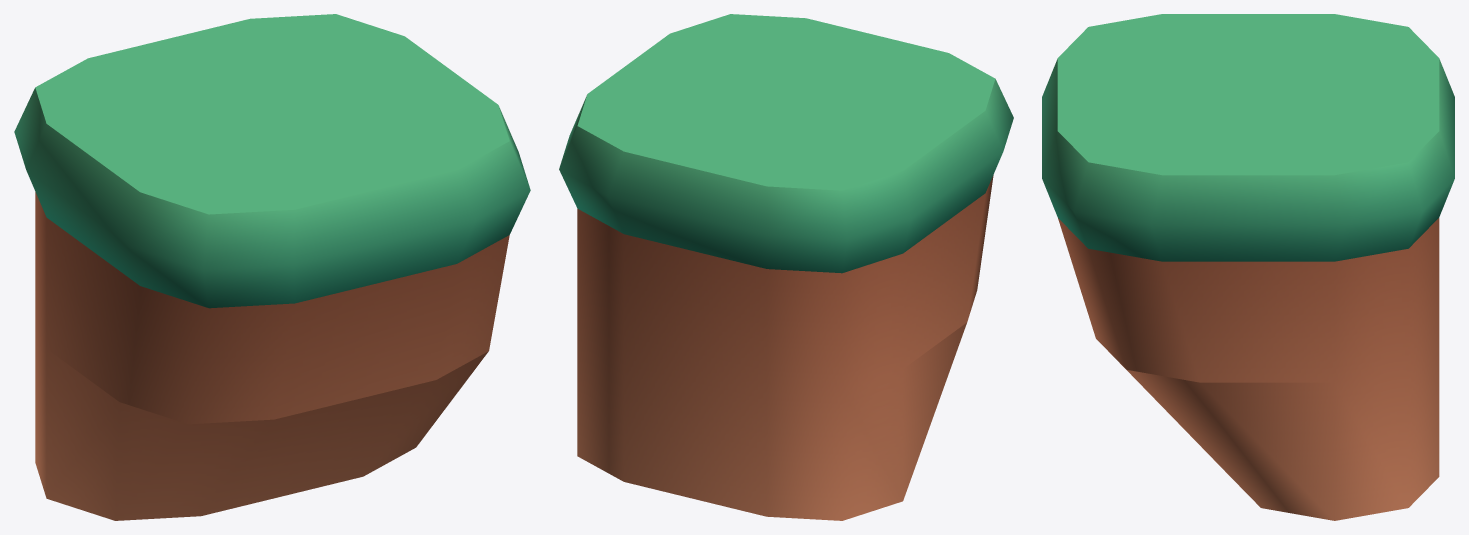
Rendered from block-grass-edge.glb.
3 renders of one model, left to right at view 1: azimuth 30°, elevation 25°; view 2: azimuth 150°, elevation 25°; view 3: azimuth 270°, elevation 25°, orthographic. The views are drawn at different scales.
Visible parts, largest first — view 1: block-grass-edge; view 2: block-grass-edge; view 3: block-grass-edge.
Part boxes in pixels (x1,y1,x2,y2): block-grass-edge: (14,14,530,520); block-grass-edge: (559,14,1013,520); block-grass-edge: (1042,14,1454,520).
Bounding box in the file's own units: 1.08 × 1 × 1.08.
1 material, 1 textured.
